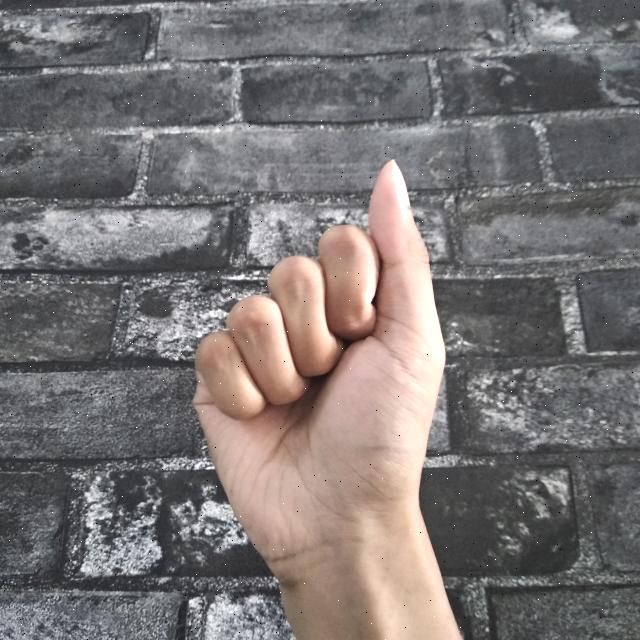A: (185, 151, 466, 640)
